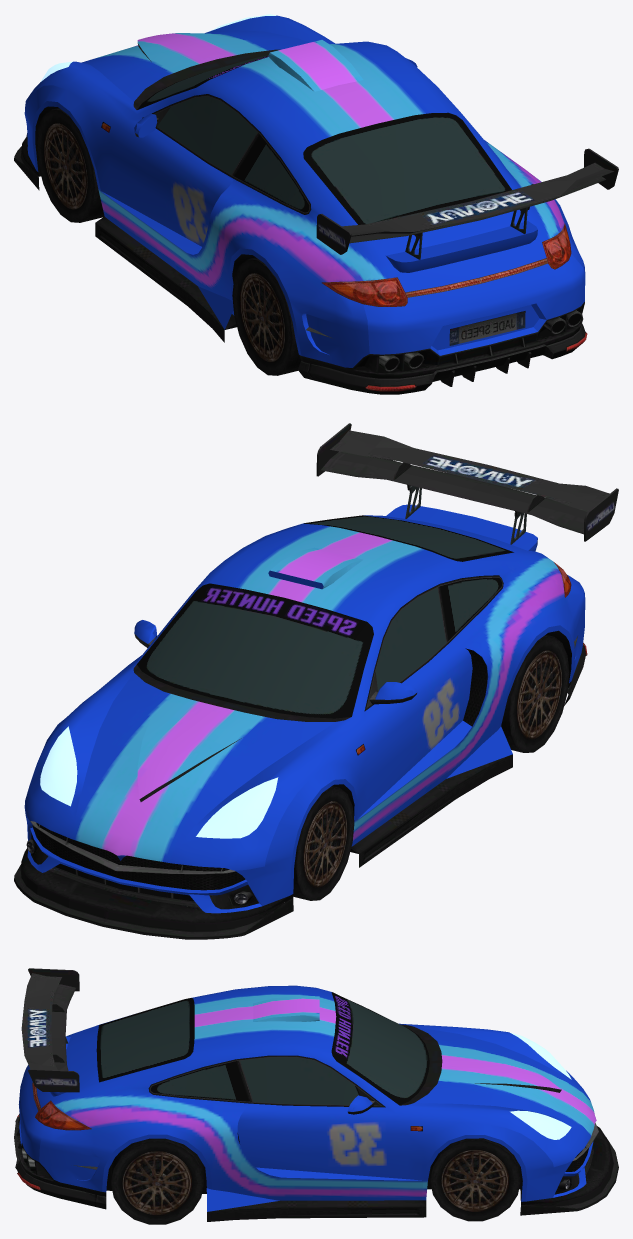
The model's file is car_58.glb.
3 views of the same model, one above another, from view 1: azimuth 30°, elevation 25°; view 2: azimuth 150°, elevation 25°; view 3: azimuth 270°, elevation 25° (orthographic). The views are drawn at different scales.
Visible parts, largest first — view 1: car_58; view 2: car_58; view 3: car_58.
Part boxes in pixels (x1,y1,x2,y2): car_58: (14,14,618,394); car_58: (14,423,618,939); car_58: (14,968,618,1224).
Size of the model in its own units: 20.86 by 14.92 by 48.99.
Materials: 12 (12 with a texture image).
